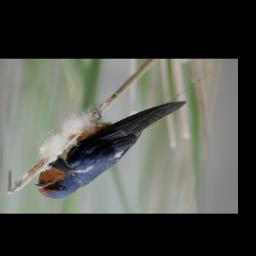Swallow: (33, 100, 187, 200)
